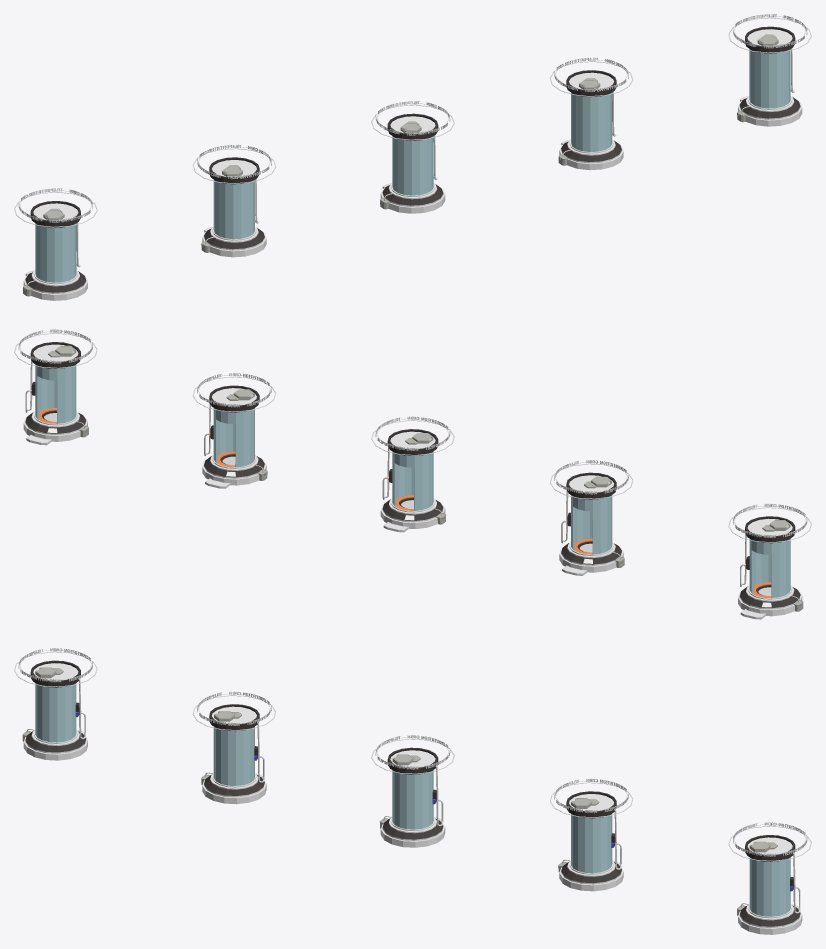
The model's file is D9_teletransport.fbx.
3 views of the same model, one above another, from view 1: azimuth 30°, elevation 25°; view 2: azimuth 150°, elevation 25°; view 3: azimuth 330°, elevation 25° (orthographic).
Visible parts, largest first — view 1: Circle.167; view 2: Circle.167; view 3: Circle.167.
Part boxes in pixels (box(x1,y1,x2,y2)): Circle.167: box(14, 14, 811, 300); Circle.167: box(14, 329, 811, 619); Circle.167: box(14, 648, 811, 934).
Size of the model in its own units: 4779 by 484 by 436.
Materials: 4 (1 with a texture image).
